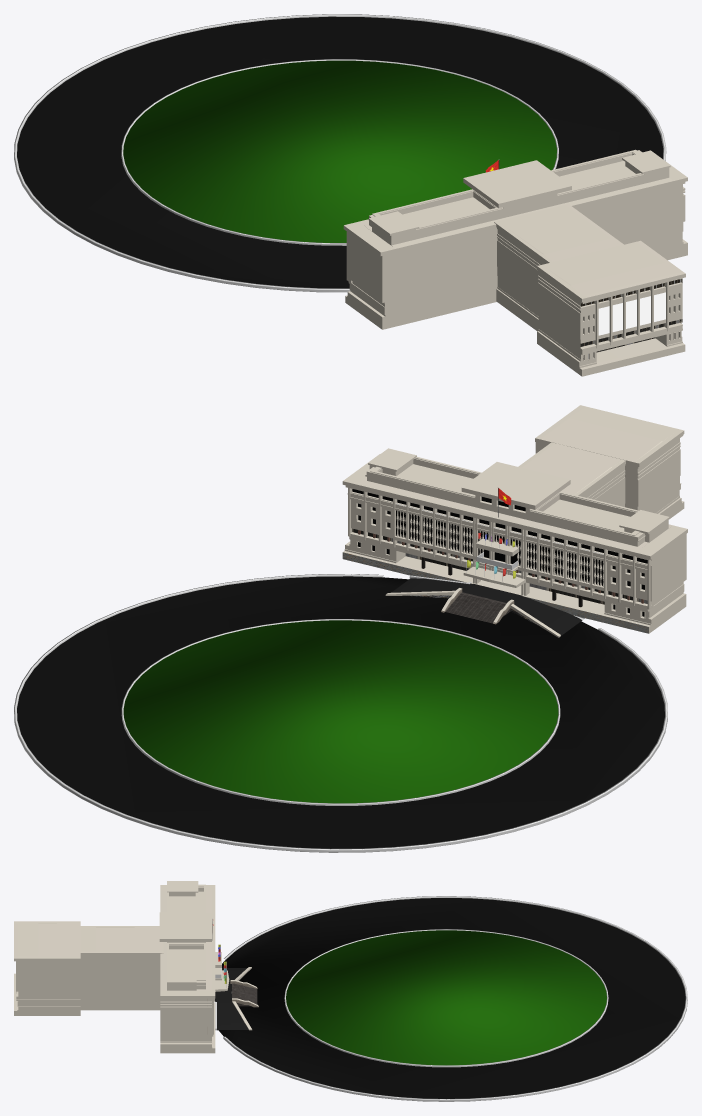
File: dinh-doc-lap.glb
3 views of the same model, one above another, from view 1: azimuth 30°, elevation 25°; view 2: azimuth 150°, elevation 25°; view 3: azimuth 270°, elevation 25° (orthographic). The views are drawn at different scales.
Parts seen in each view (by area): view 1: Cube.003; view 2: Cube.003; view 3: Cube.003.
Part boxes in pixels (left/top/right/bottom): Cube.003: left=14, top=14, right=687, bottom=376; Cube.003: left=14, top=405, right=687, bottom=852; Cube.003: left=14, top=881, right=687, bottom=1101.
Bounding box in the file's own units: 159 × 29.77 × 222.
28 materials, 13 textured.
